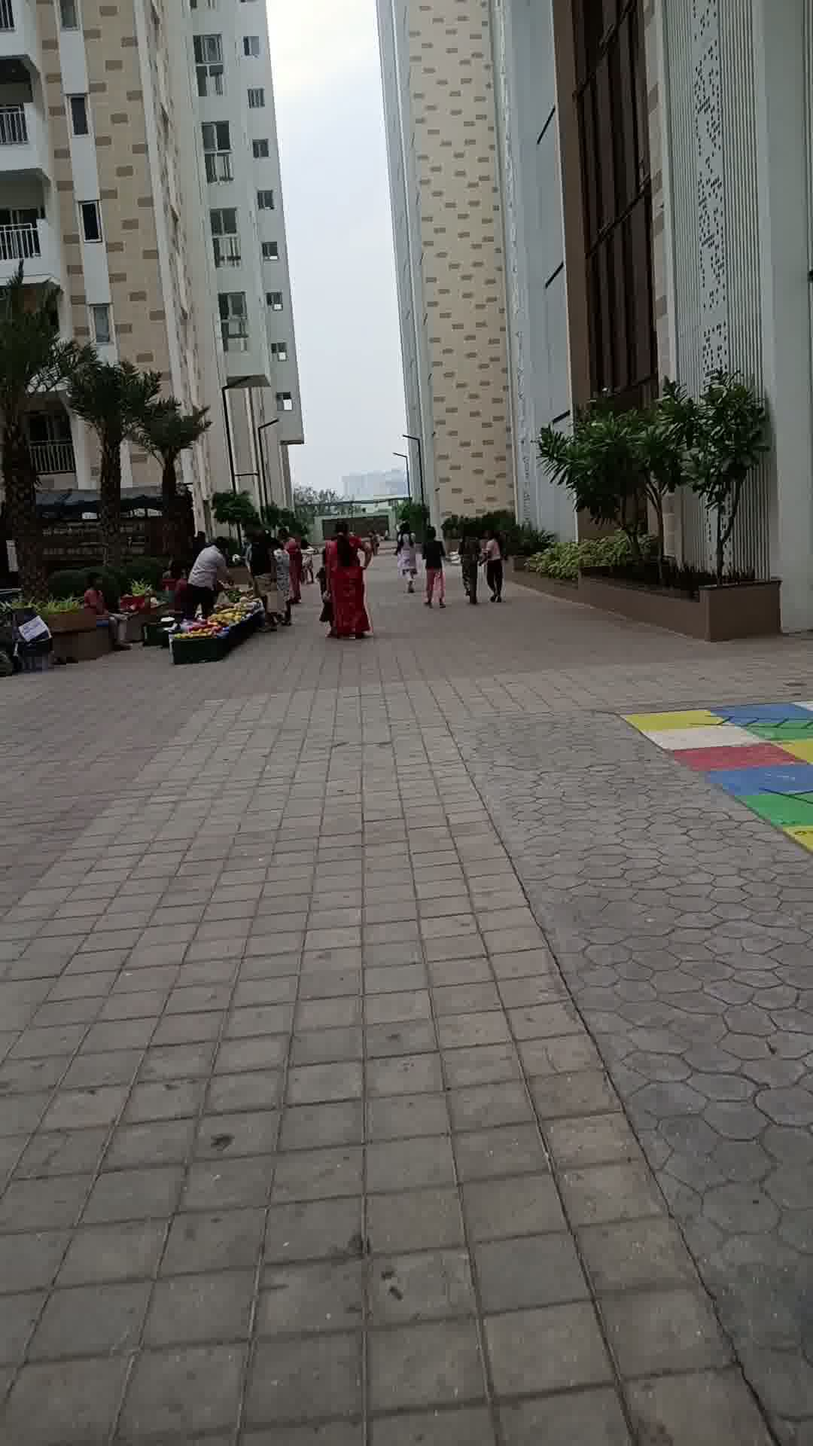person: (317, 508, 380, 661), (174, 525, 228, 635), (273, 515, 316, 608), (238, 523, 275, 629), (423, 523, 460, 628), (454, 521, 485, 618), (477, 515, 509, 604), (390, 513, 421, 597)
tree: (640, 350, 771, 615), (535, 384, 689, 595), (0, 248, 85, 584), (57, 316, 139, 584), (134, 370, 202, 569)
